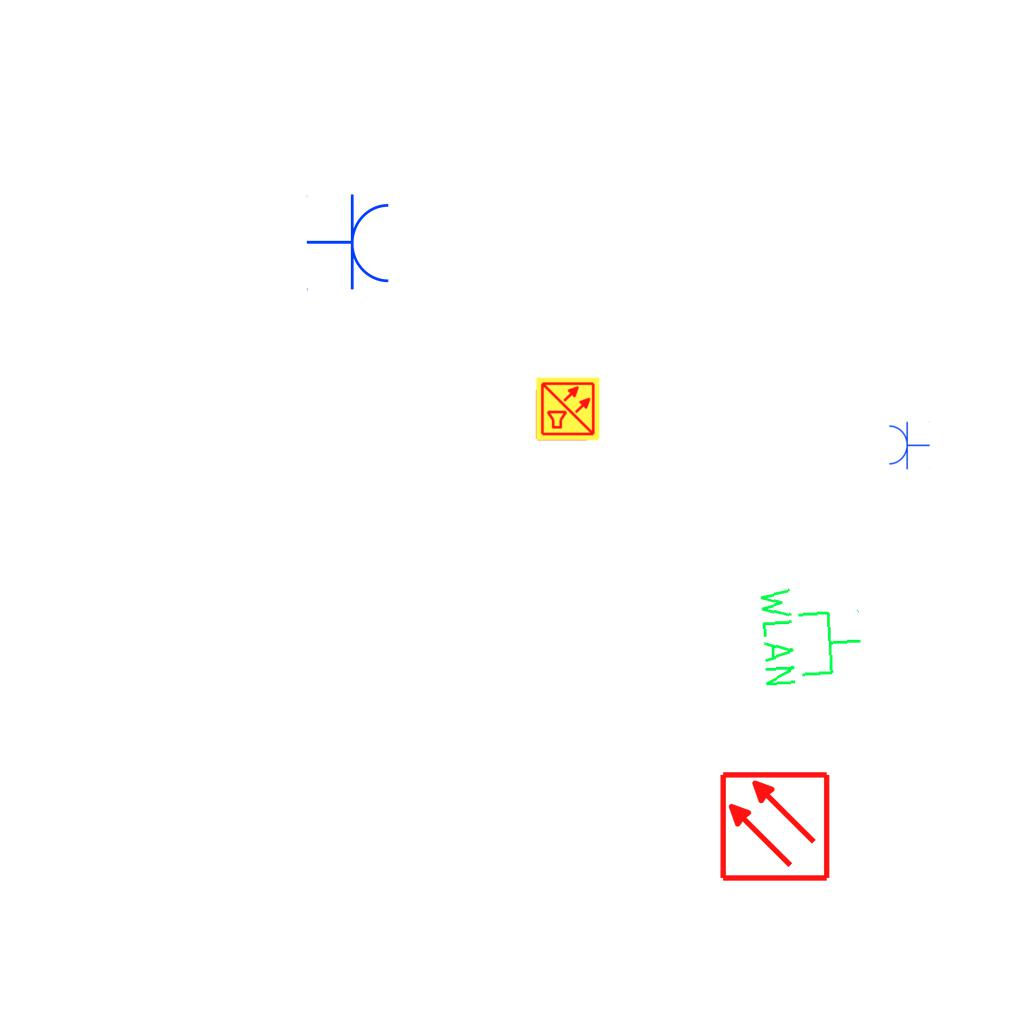OKW_Multisensormelder_(Kombination_optischer_Rauch-Kahlenmonoxid_Waerme-Melder): (535, 376, 601, 442)
RMO_Rauchmelder_optischer: (718, 770, 831, 883)
Schukosteckdose_einfach: (306, 193, 393, 293), (887, 420, 930, 470)
WLAN: (755, 578, 867, 691)
